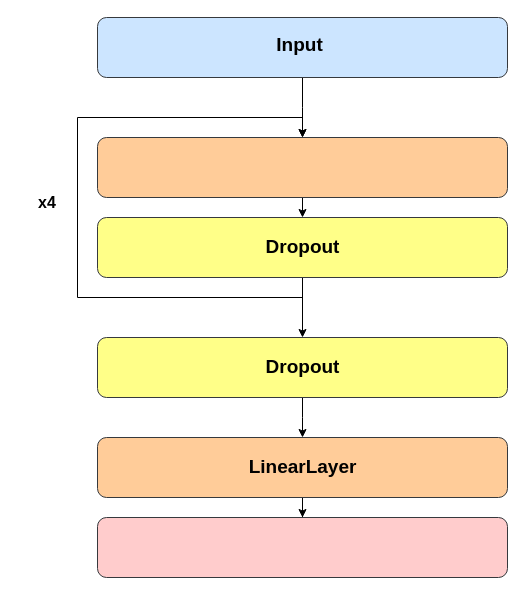
Image size: 525x595. Some labels were removed from this diagram. Each missing label, with the box of its shape:
LSTMCell: (96, 136, 508, 198)
Softmax: (96, 516, 508, 578)
